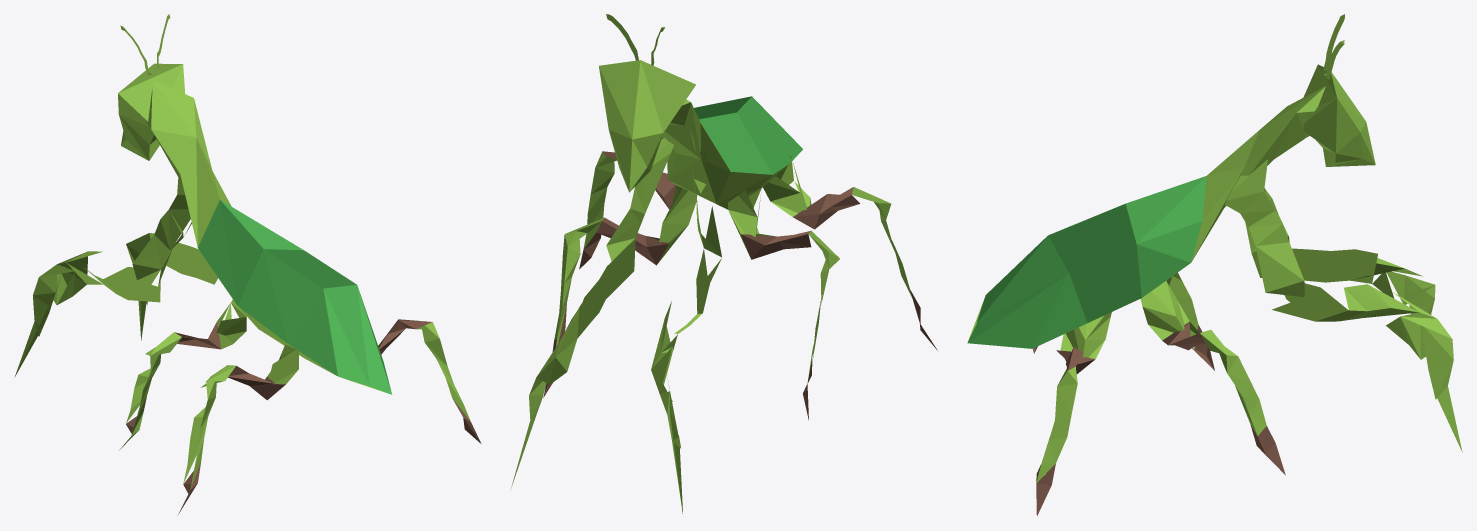
File: Mantis.glb
3 views of the same model, side by side, from view 1: azimuth 30°, elevation 25°; view 2: azimuth 150°, elevation 25°; view 3: azimuth 270°, elevation 25° (orthographic). The views are drawn at different scales.
Visible parts, largest first — view 1: Node; view 2: Node; view 3: Node.
Boxes of the visible parts, left/top/right/bottom form: Node: left=14, top=14, right=481, bottom=514; Node: left=510, top=14, right=937, bottom=516; Node: left=967, top=14, right=1462, bottom=515.
Bounding box in the file's own units: 0.6261 × 0.7329 × 0.8231.
